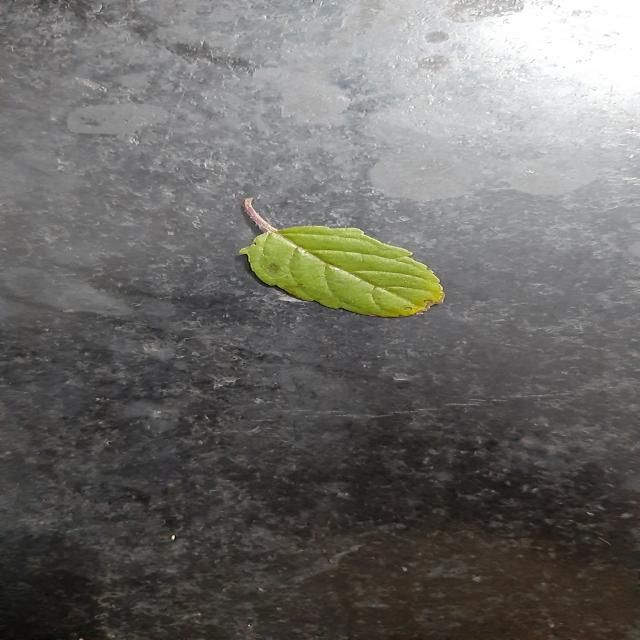tulsi: (241, 199, 444, 316)
